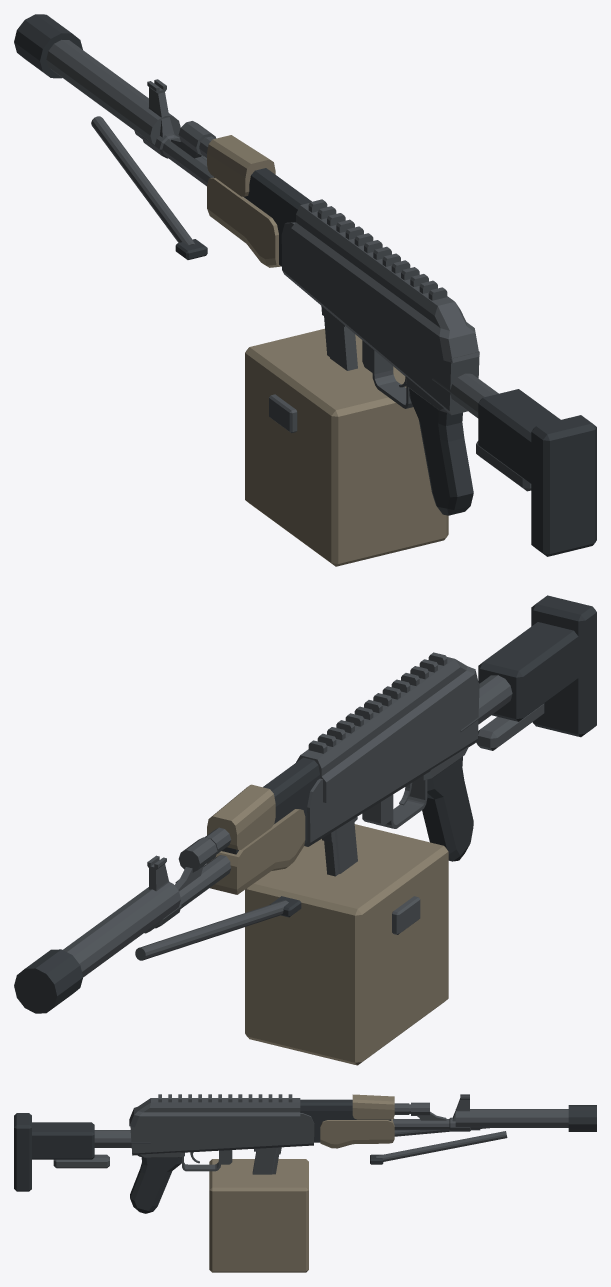
Rendered from lmg.glb.
The picture shows the model from 3 angles, top to bottom: view 1: azimuth 30°, elevation 25°; view 2: azimuth 150°, elevation 25°; view 3: azimuth 270°, elevation 25°; orthographic projection. The views are drawn at different scales.
Visible parts, largest first — view 1: LmgModel; view 2: LmgModel; view 3: LmgModel.
Boxes of the visible parts, <box> form: LmgModel: <box>14,14,596,566</box>; LmgModel: <box>14,595,596,1065</box>; LmgModel: <box>14,1094,596,1272</box>.
Bounding box in the file's own units: 0.1359 × 0.3137 × 1.02.
